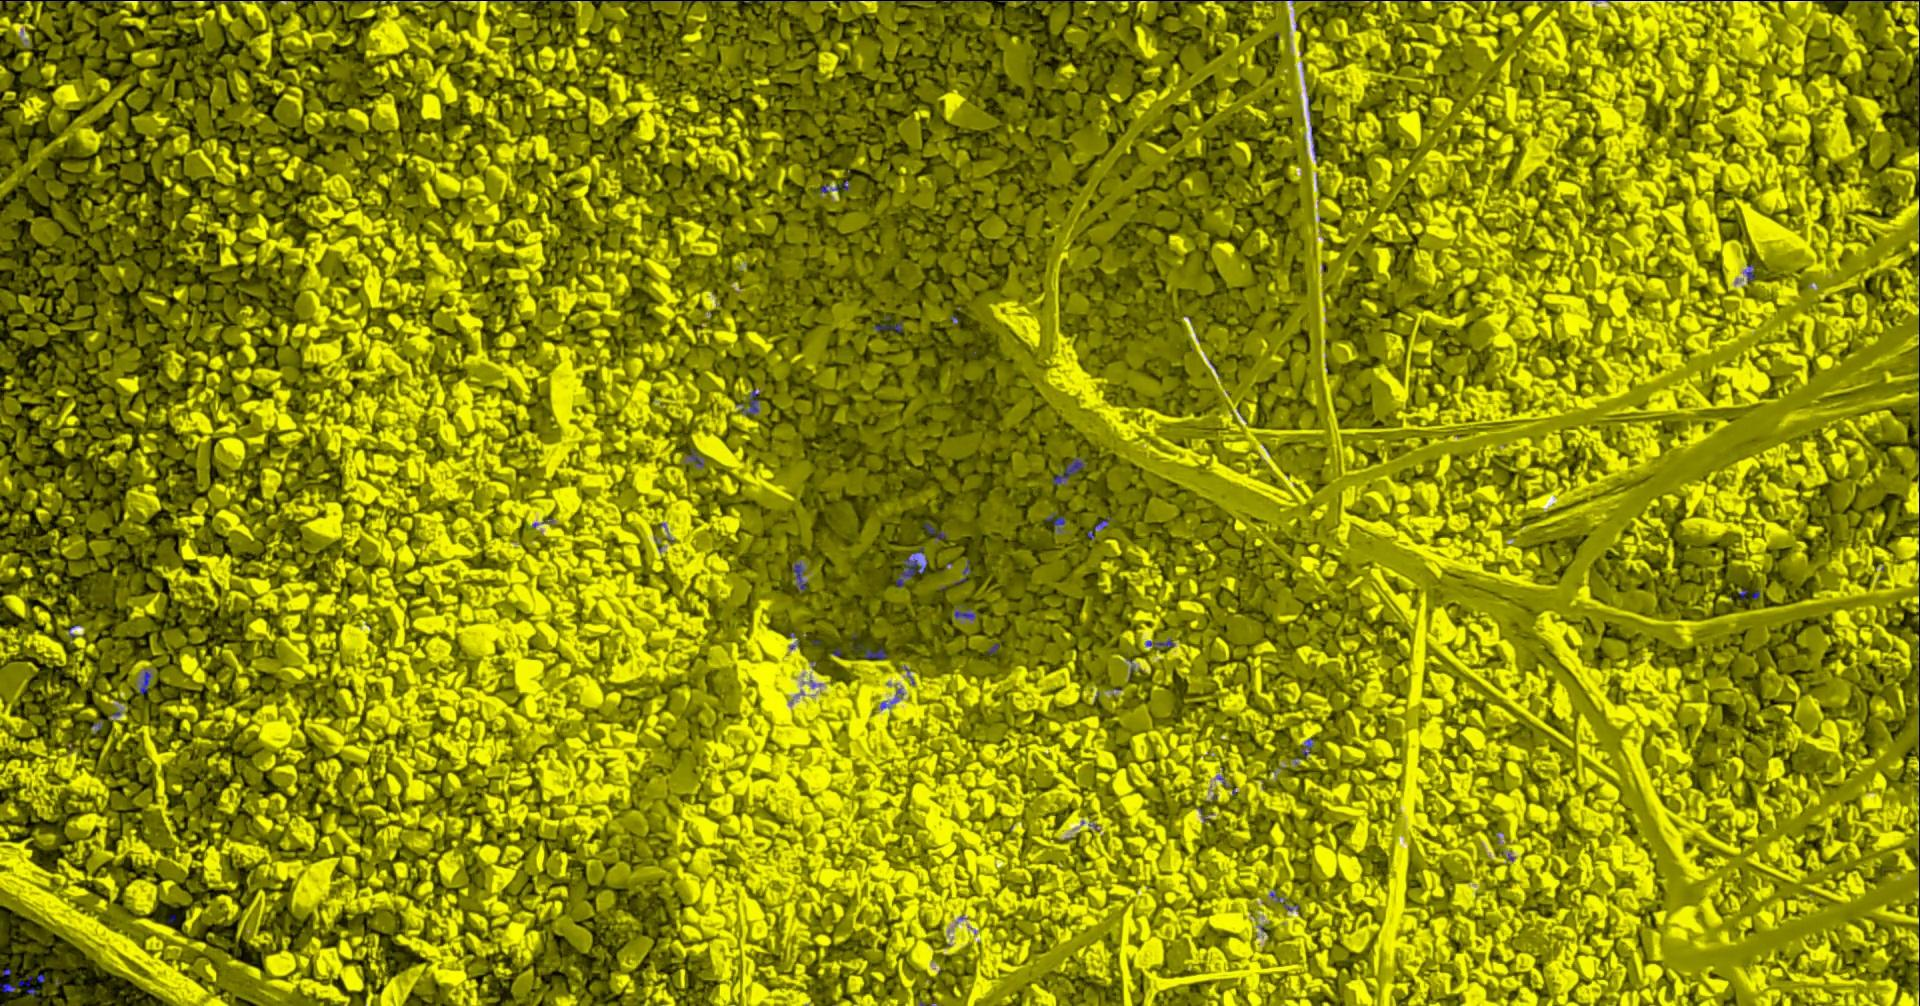ant: (895, 547, 927, 587), (0, 973, 44, 995), (1051, 459, 1084, 485), (738, 389, 758, 415), (872, 315, 902, 332), (791, 561, 806, 591), (819, 179, 850, 193), (1045, 512, 1065, 530), (923, 523, 945, 539), (954, 605, 975, 619), (687, 448, 703, 466), (863, 647, 886, 659), (138, 671, 150, 694), (1145, 638, 1175, 647), (1302, 737, 1313, 757), (1027, 0, 1084, 1)
